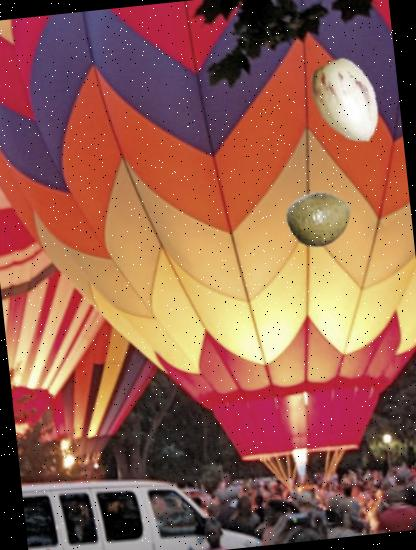Guava: (284, 183, 354, 253)
Pepino: (297, 52, 397, 152)
